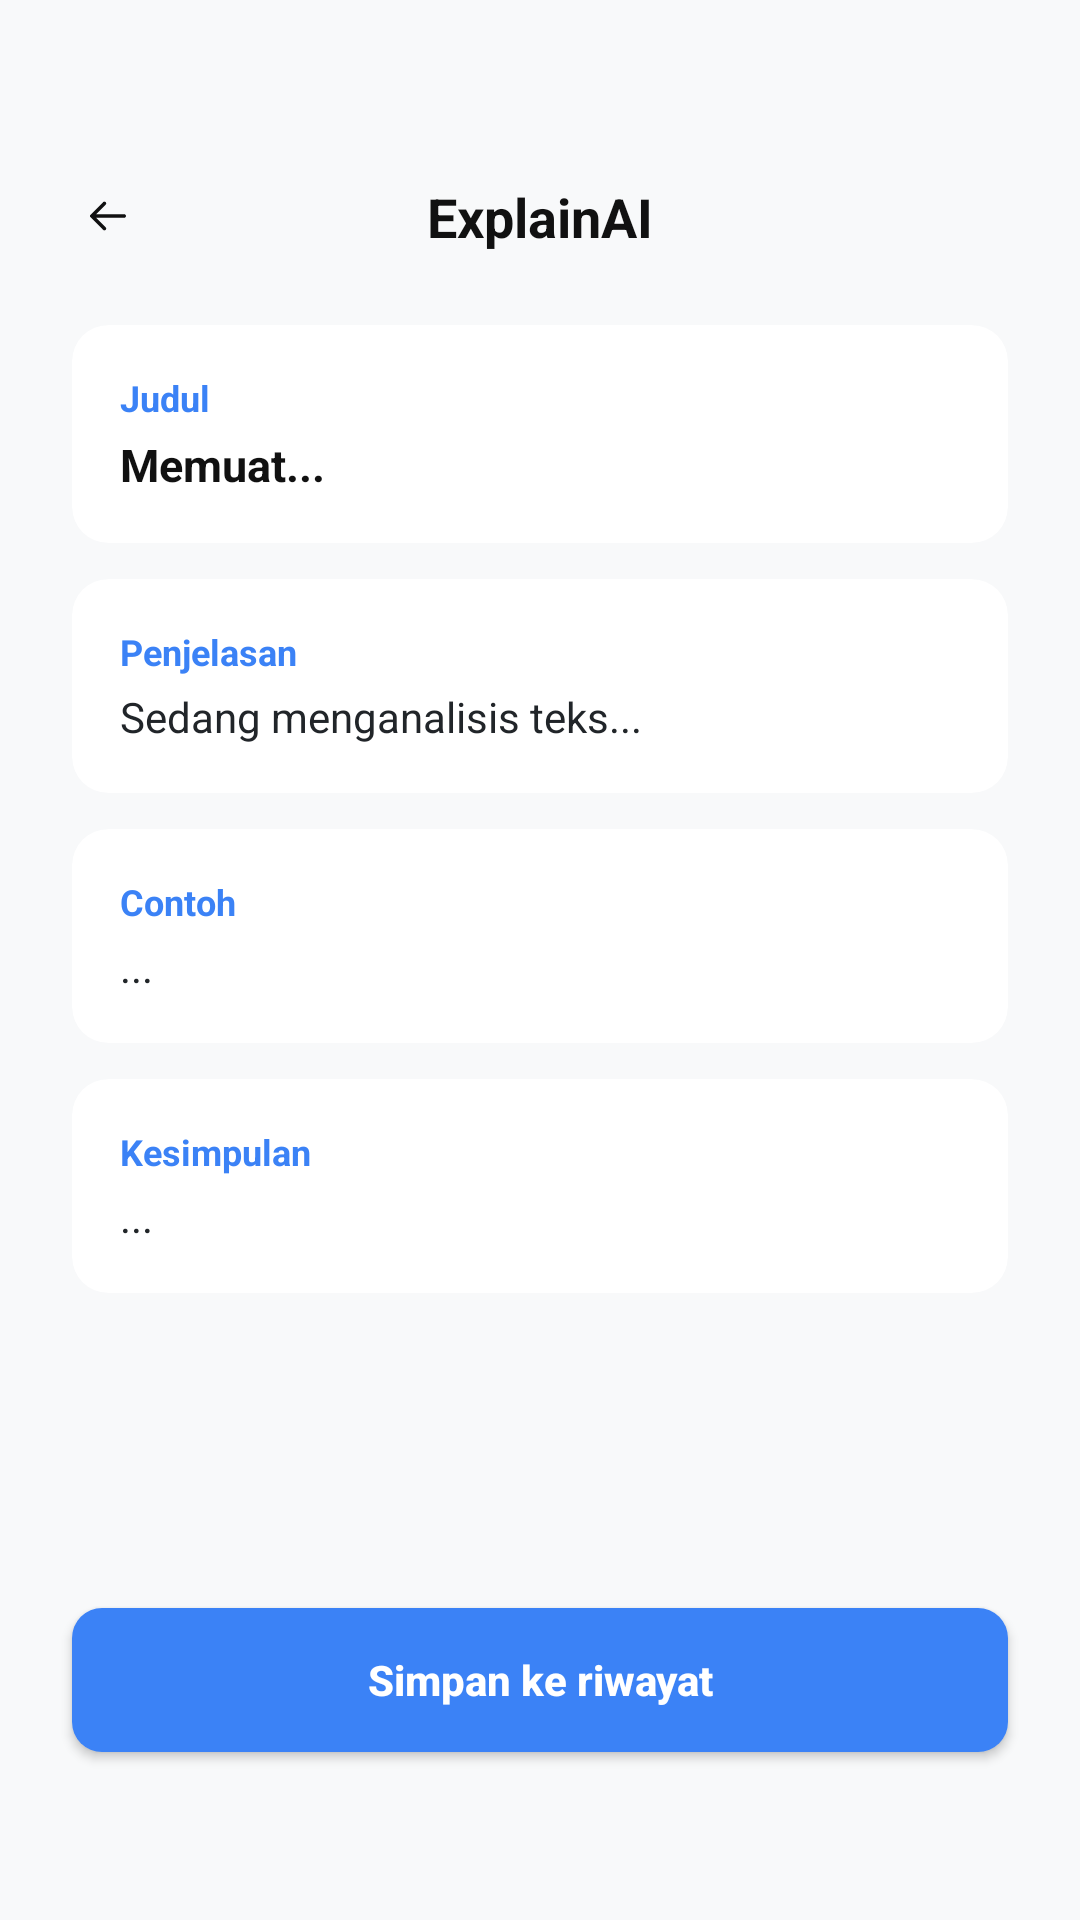

Where icons sit on this 1080px×1920px app screen, as (x1, y1, x2, y2):
Kembali: (90, 201, 126, 231)
